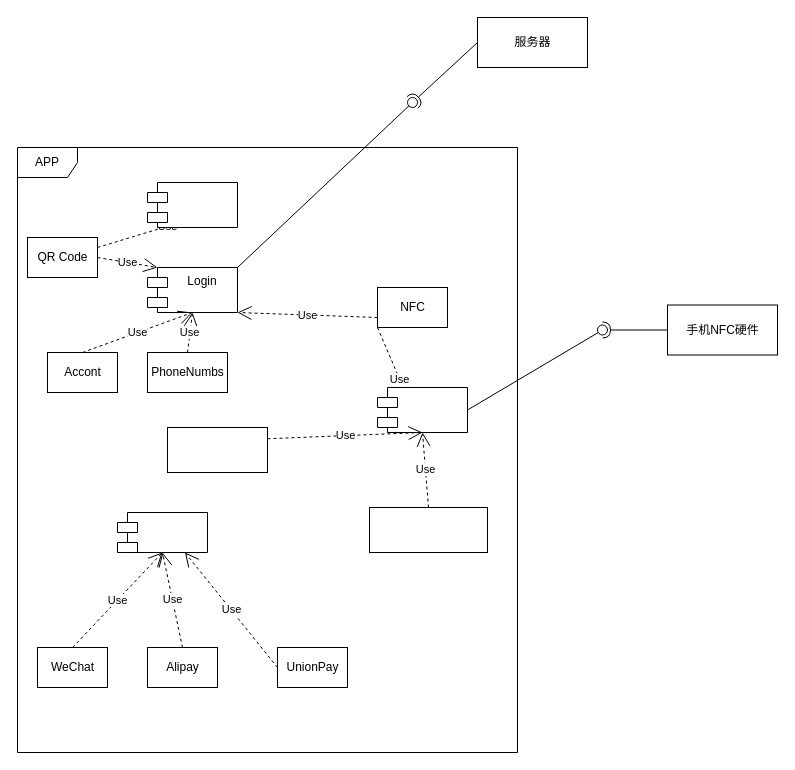
This 795x770 diagram has some shape labels left out. The shapes that lost their labels are listed below. From the top down, each one's centre as x and y in pixels, then its label:
At point 192,205: "QR Maker".
At point 422,409: "NFC Identify".
At point 217,449: "Ecard maker&Use".
At point 162,532: "Pay".
At point 428,529: "Card Info Read&Write".
